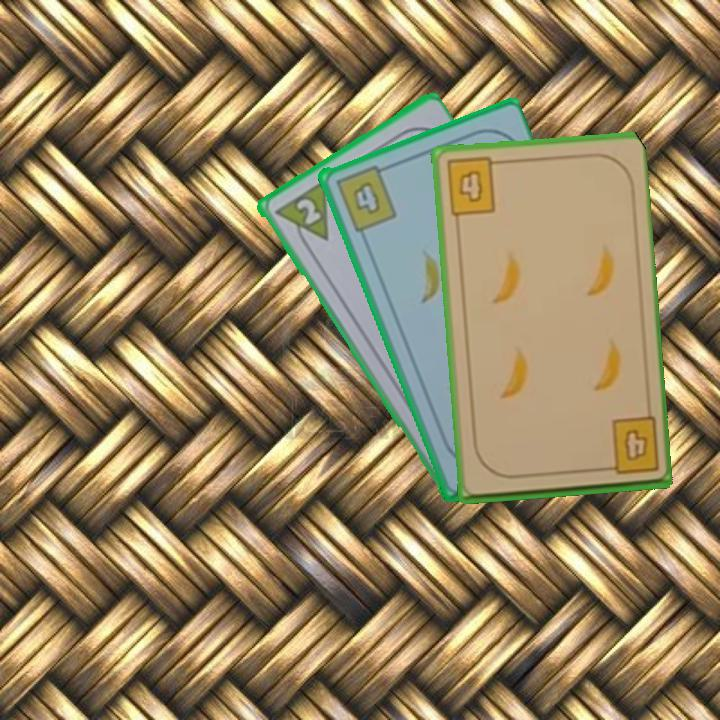2p: (269, 177, 332, 255)
4b: (331, 161, 399, 234), (596, 414, 662, 478), (442, 154, 505, 218)
